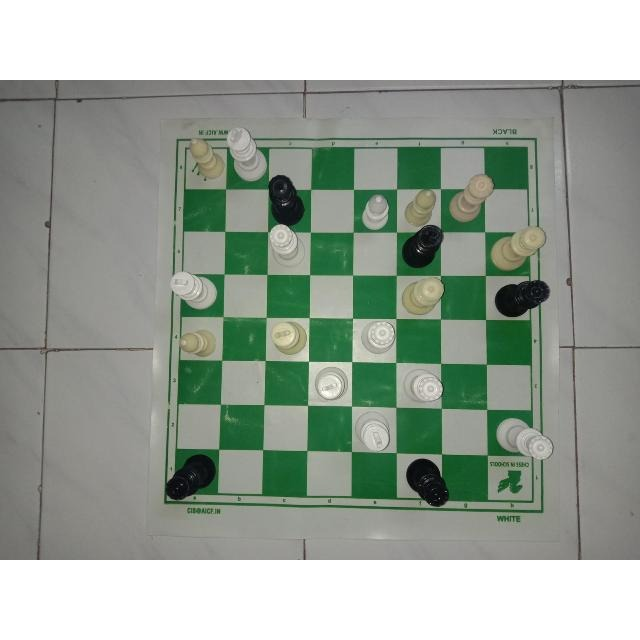black-king: (400, 224, 442, 269)
black-queen: (164, 448, 218, 504), (402, 455, 451, 509), (489, 277, 555, 316), (268, 173, 309, 222)
white-bishop: (184, 136, 225, 183), (174, 323, 224, 357), (402, 186, 440, 226), (362, 192, 390, 234)
white-king: (225, 126, 268, 183), (167, 271, 218, 311), (350, 408, 394, 454), (268, 319, 308, 359), (312, 363, 352, 401)
white-queen: (487, 223, 550, 273), (491, 415, 556, 461), (447, 171, 496, 226), (398, 273, 445, 319), (268, 222, 308, 270), (401, 367, 443, 405), (355, 319, 397, 353)
